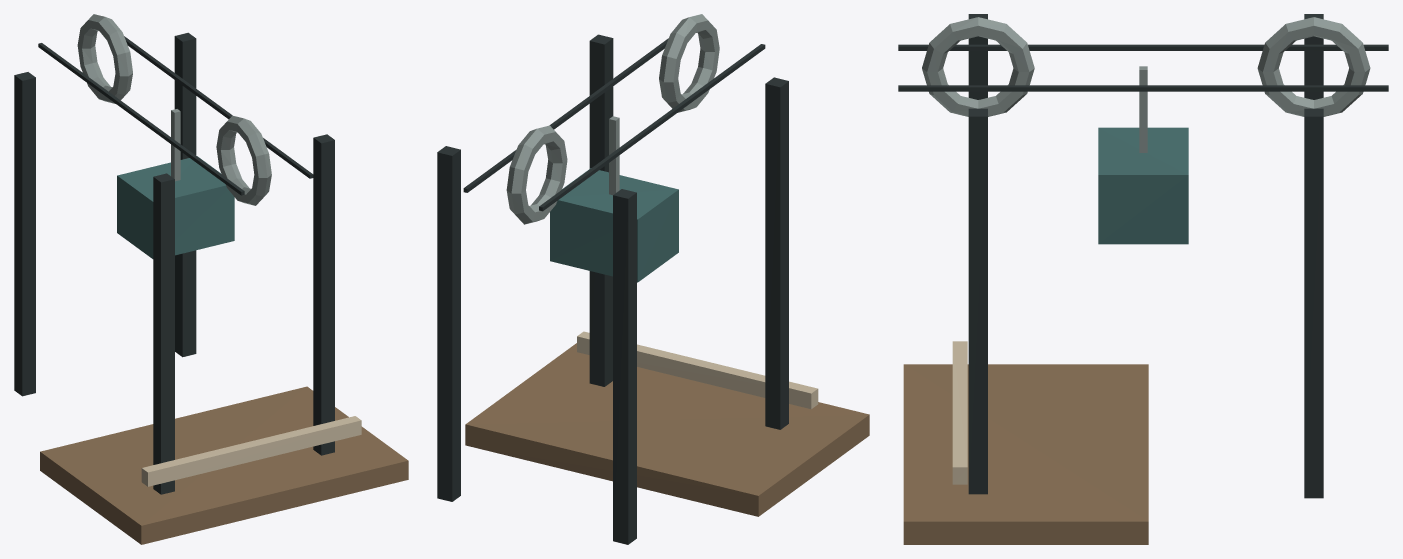
Rendered from Cable-Lift.glb.
The picture shows the model from 3 angles, left to right: view 1: azimuth 30°, elevation 25°; view 2: azimuth 150°, elevation 25°; view 3: azimuth 270°, elevation 25°; orthographic projection. The views are drawn at different scales.
Visible parts, largest first — view 1: cable-lift-static-lift-loading-timber, cable-lift-static-lift-dark-metal, cable-lift-static-lift-muted-teal, cable-lift-static-lift-galvanized, cable-lift-static-lift-warm-cream; view 2: cable-lift-static-lift-loading-timber, cable-lift-static-lift-dark-metal, cable-lift-static-lift-muted-teal, cable-lift-static-lift-galvanized, cable-lift-static-lift-warm-cream; view 3: cable-lift-static-lift-loading-timber, cable-lift-static-lift-dark-metal, cable-lift-static-lift-galvanized, cable-lift-static-lift-muted-teal, cable-lift-static-lift-warm-cream.
Part boxes in pixels (box(x1,y1,x2,y2)): cable-lift-static-lift-loading-timber: box(40, 386, 408, 544); cable-lift-static-lift-dark-metal: box(14, 32, 334, 494); cable-lift-static-lift-muted-teal: box(117, 156, 234, 258); cable-lift-static-lift-galvanized: box(77, 14, 271, 205); cable-lift-static-lift-warm-cream: box(141, 416, 361, 486); cable-lift-static-lift-loading-timber: box(465, 343, 869, 516); cable-lift-static-lift-dark-metal: box(437, 34, 788, 544); cable-lift-static-lift-muted-teal: box(550, 168, 678, 282); cable-lift-static-lift-galvanized: box(506, 14, 719, 224); cable-lift-static-lift-warm-cream: box(577, 331, 818, 409); cable-lift-static-lift-loading-timber: box(903, 364, 1148, 544); cable-lift-static-lift-dark-metal: box(898, 14, 1388, 498); cable-lift-static-lift-galvanized: box(922, 17, 1370, 152); cable-lift-static-lift-muted-teal: box(1098, 127, 1188, 244); cable-lift-static-lift-warm-cream: box(952, 341, 967, 484).
Bounding box in the file's own units: 3.5 × 4.65 × 4.6.
